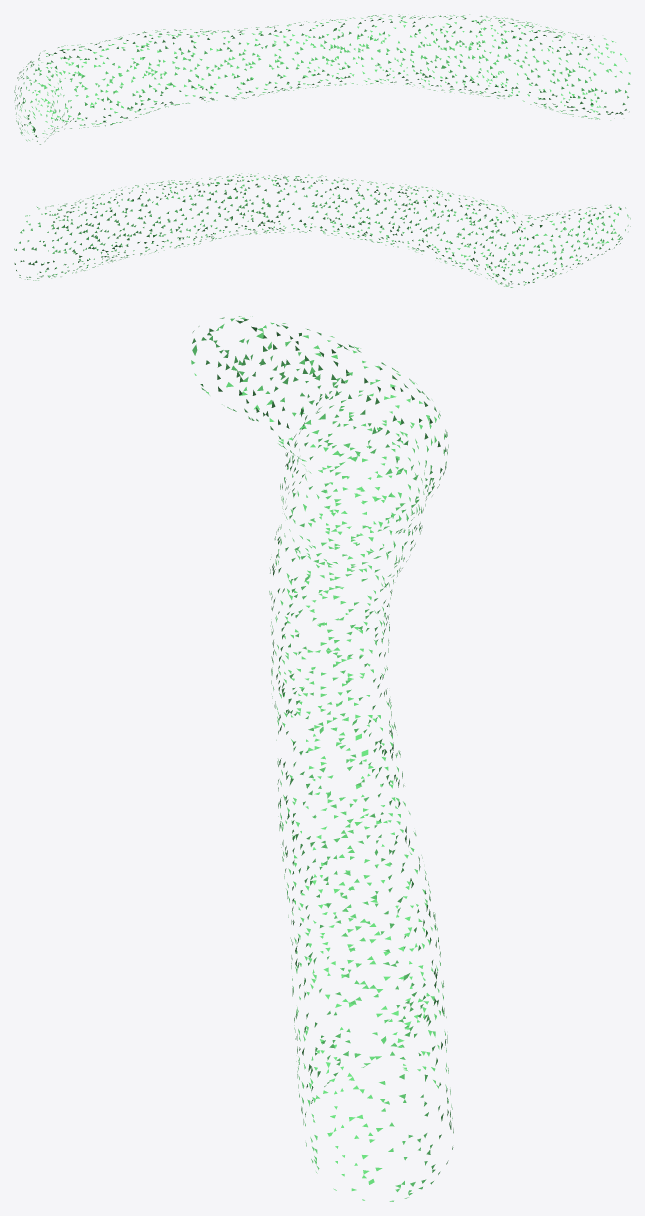
File: morph_019.glb
3 views of the same model, one above another, from view 1: azimuth 30°, elevation 25°; view 2: azimuth 150°, elevation 25°; view 3: azimuth 270°, elevation 25° (orthographic). The views are drawn at different scales.
Size of the model in its own units: 136 by 42.02 by 27.82.
